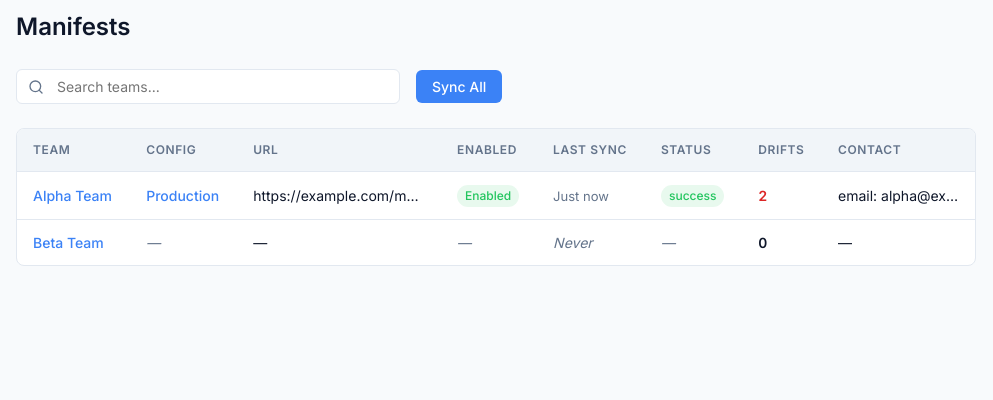
Scenario: ManifestAdmin › handles sync all button
Expected: the link "Alpha Team" is shown, left=33, top=187, right=112, bottom=204
Click the button "Sync All" at (459, 86), box left=416, top=70, right=502, bottom=103
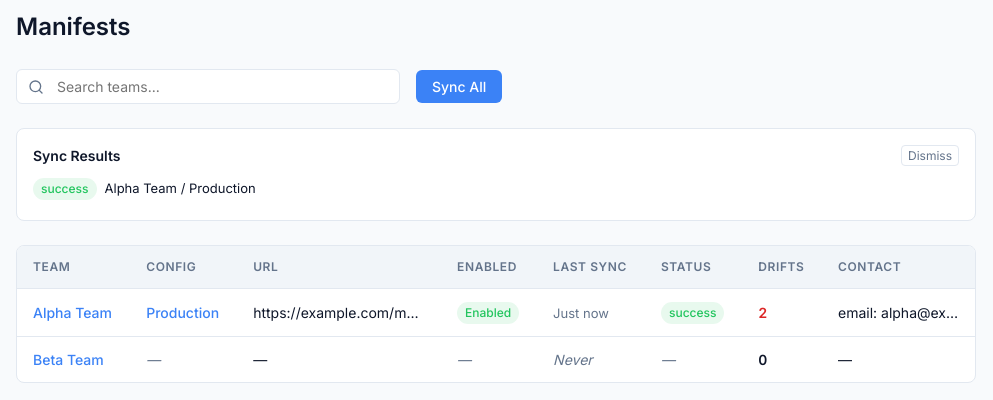
Result: the text "Sync Results" is shown at left=33, top=145, right=120, bottom=166
